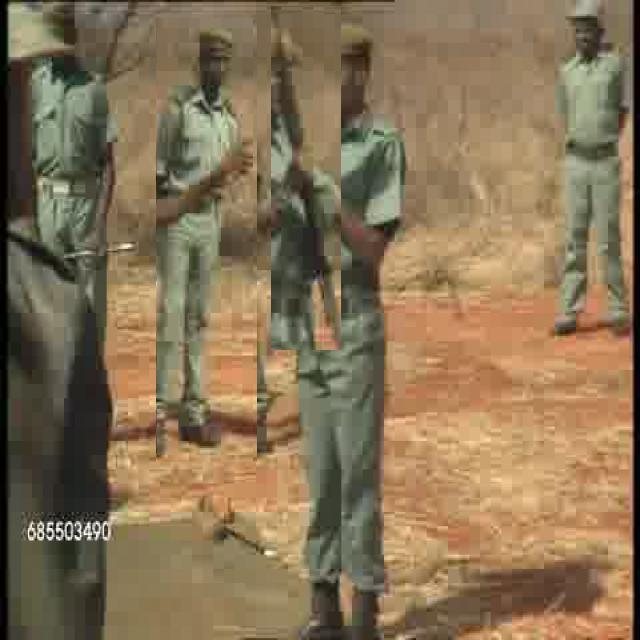poacher: (269, 7, 439, 599), (156, 18, 257, 462), (534, 1, 640, 350), (42, 2, 126, 357)
weapon: (271, 6, 341, 350)
